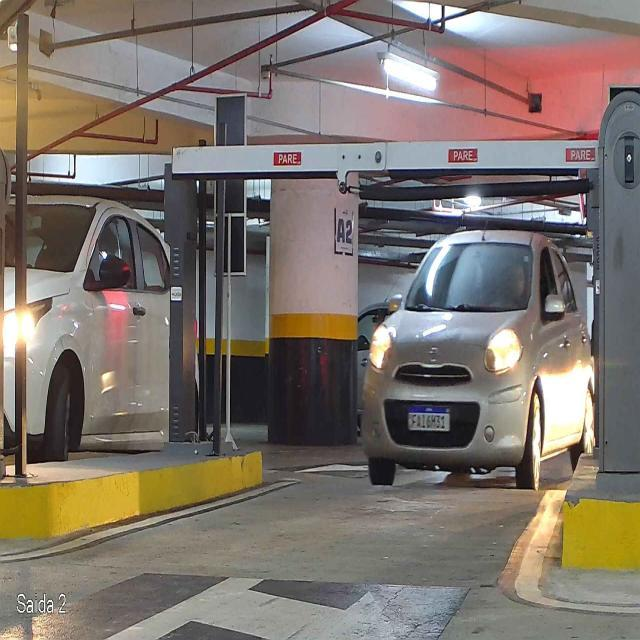mercosul_plate: (406, 406, 452, 432)
